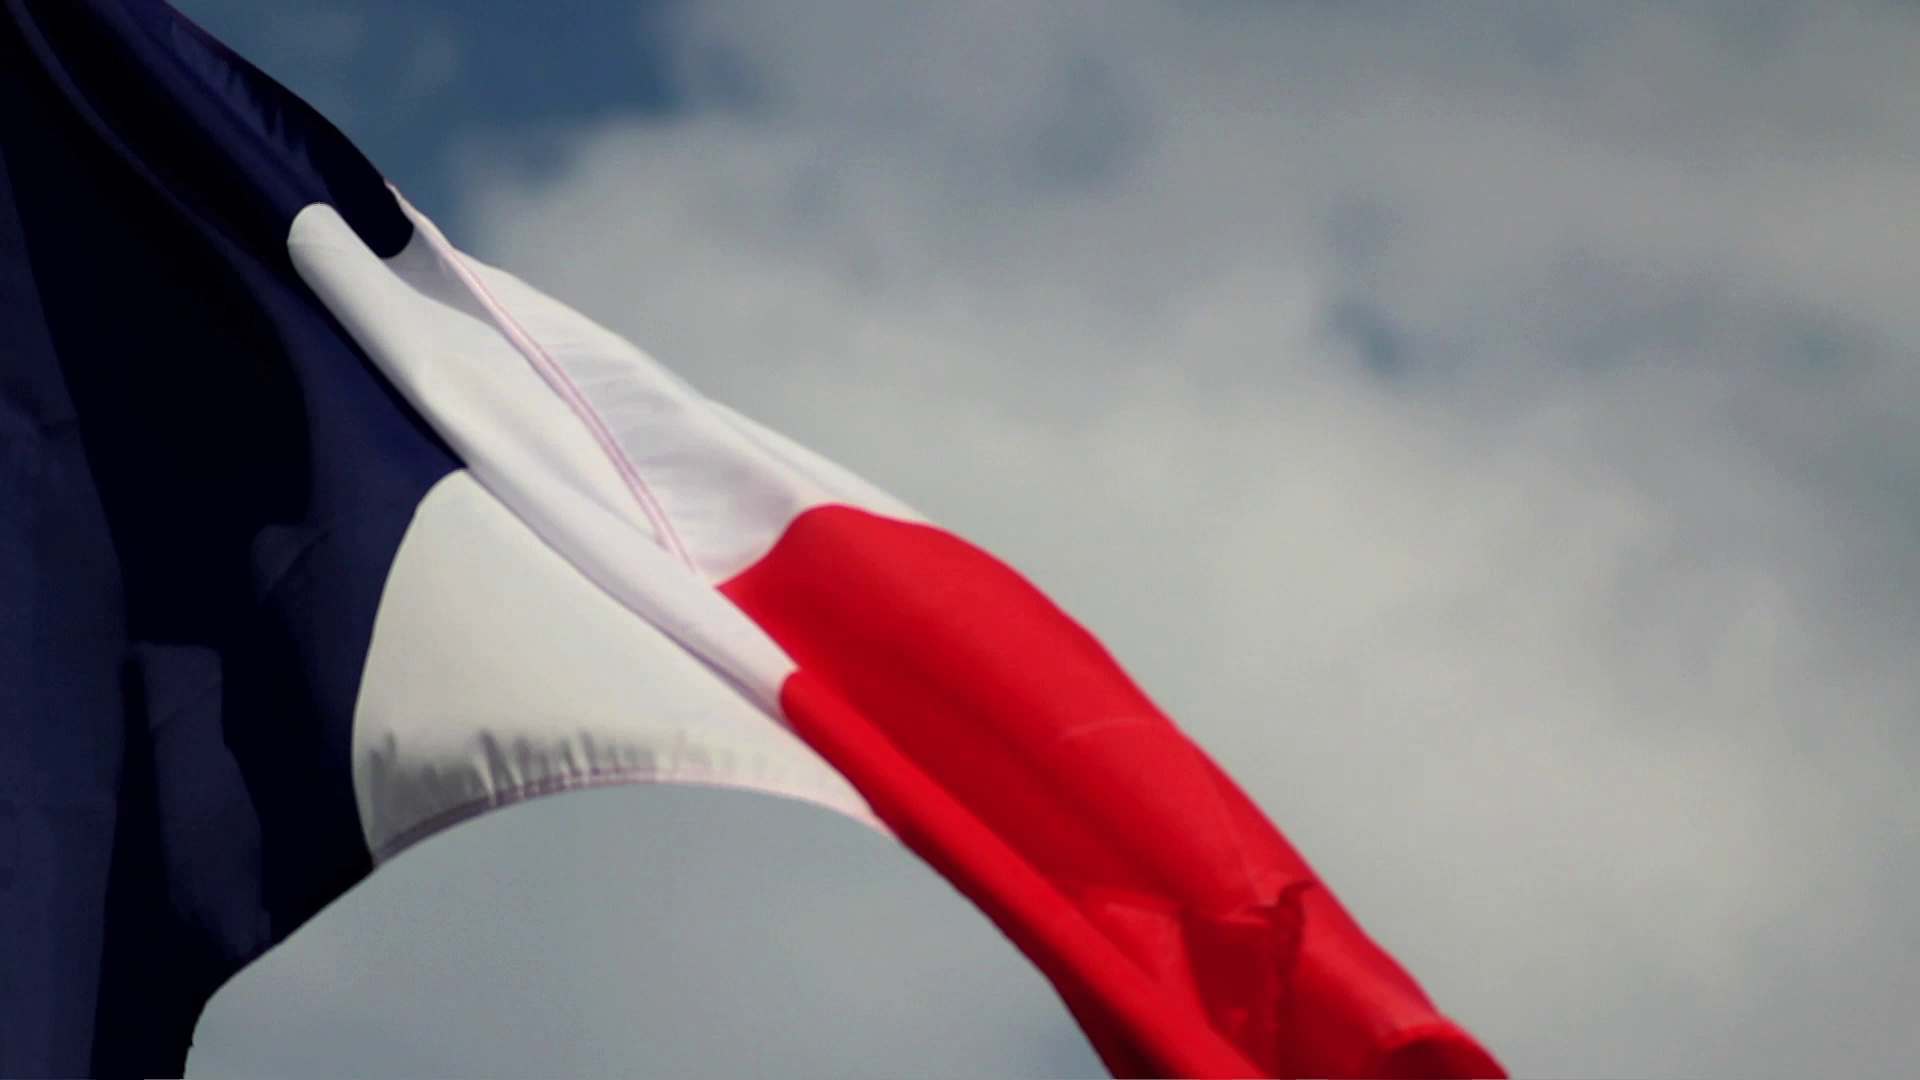French Flag: (3, 7, 1502, 1080)
